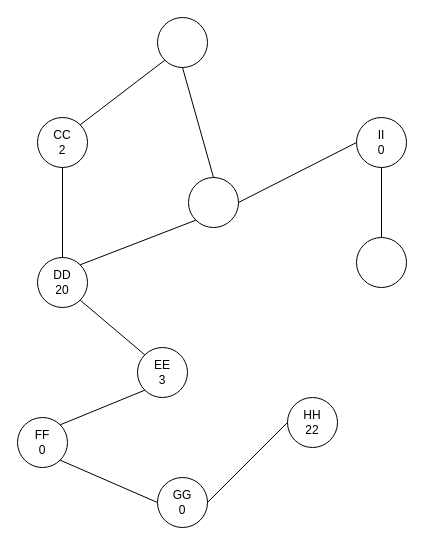
This 424x545 diagram has some shape labels left out. Here are the shapes that lost their labels. From the top down, the centre of each, then its label:
At (x=182, y=42): "BB 13".
At (x=213, y=202): "AA 0".
At (x=381, y=262): "JJ 21".
